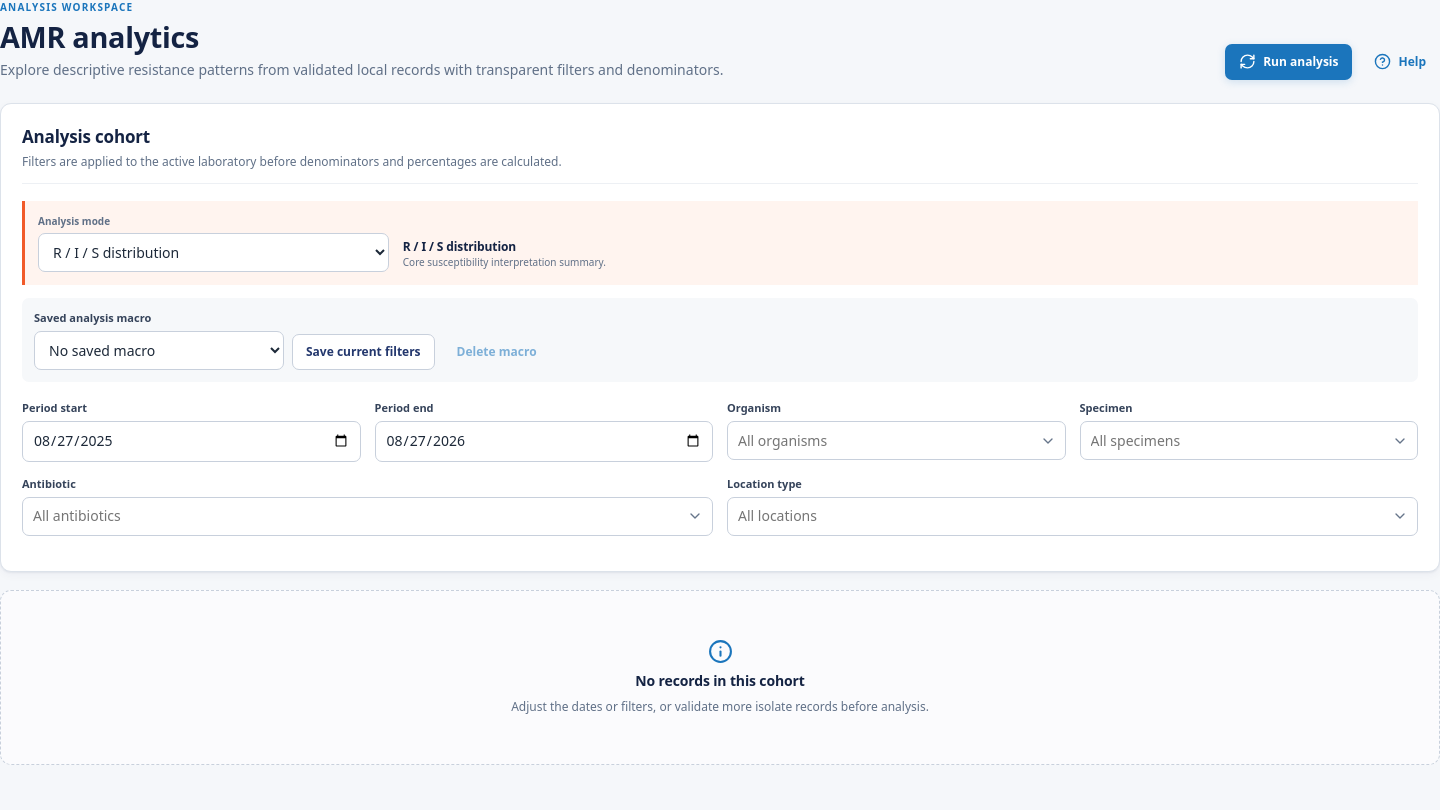
Test: Analytics outbreak controls › makes method, safety gate and accepted scan parameters visible
Select "Outbreak & cluster detection" in the dropdown labelled "Analysis mode" at (213, 253), box [38,233,389,272]
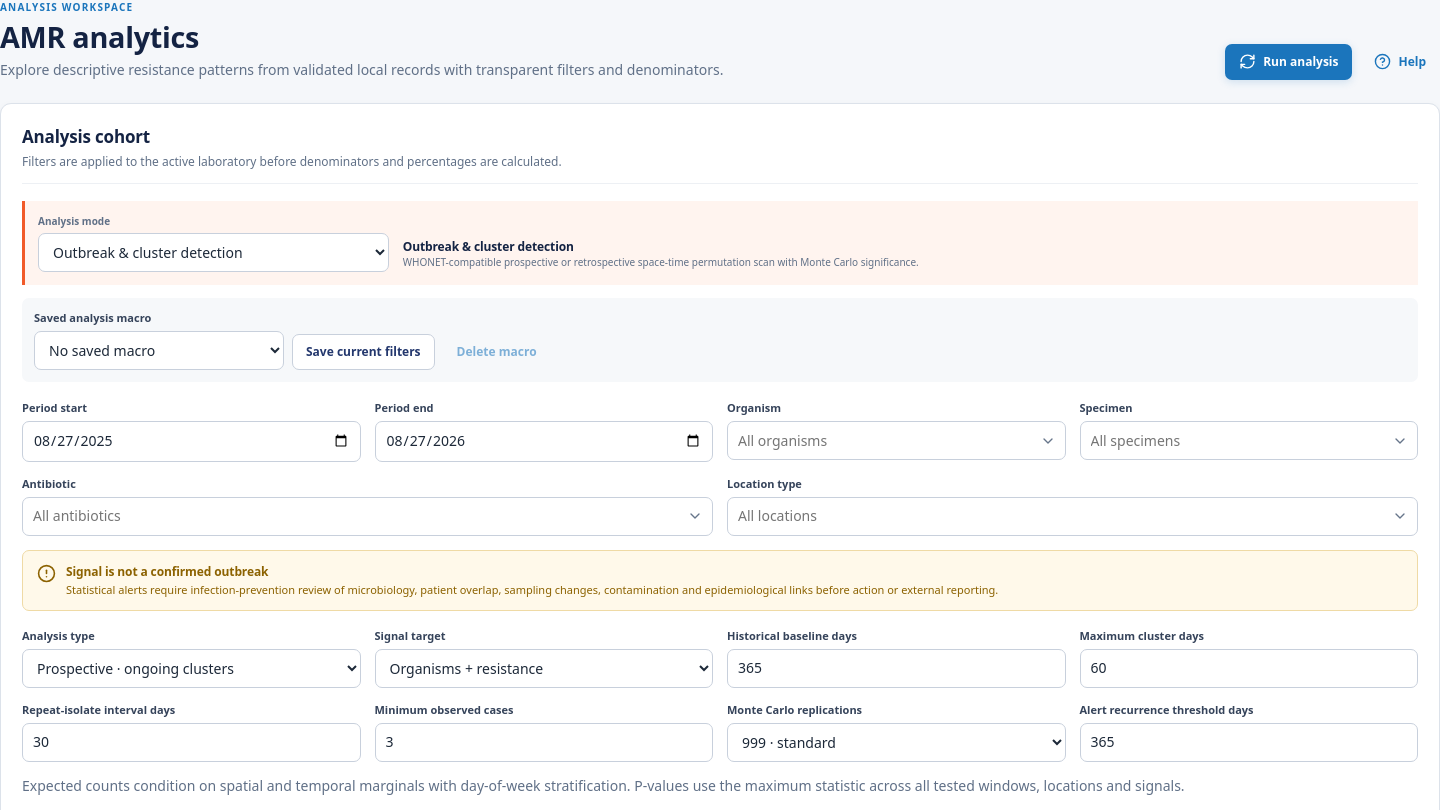
Expected: the text "Signal is not a confirmed outbreak" is shown, [66,562,268,580]
Expected: the dropdown labelled "Analysis type" shows "Prospective · ongoing clusters", [22,649,360,688]
Expected: the number field labelled "Historical baseline days" holds "365", [727,649,1066,688]
